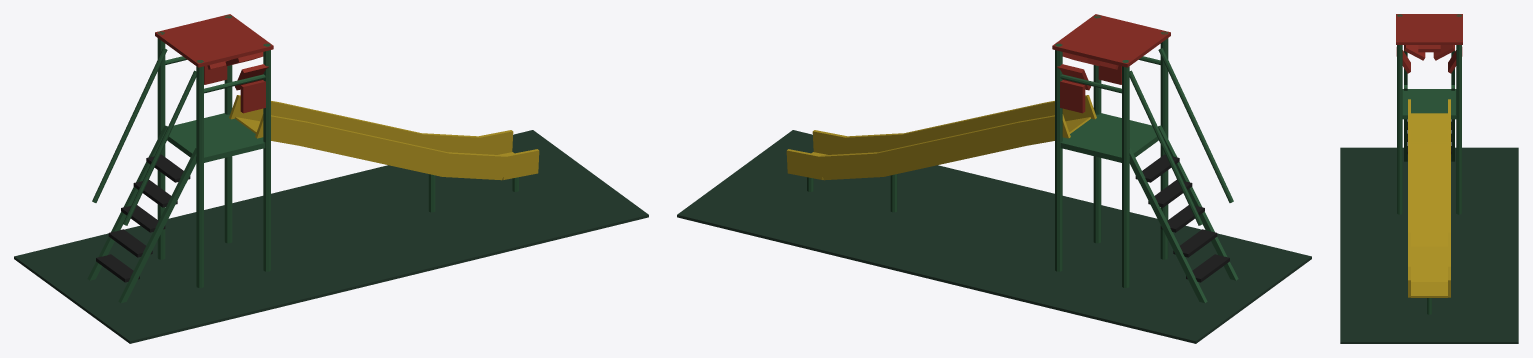
File: SM_Prop_play_slide_1.glb
3 views of the same model, side by side, from view 1: azimuth 30°, elevation 25°; view 2: azimuth 150°, elevation 25°; view 3: azimuth 270°, elevation 25° (orthographic). The views are drawn at different scales.
Visible parts, largest first — view 1: SM_Prop_play_slide_1; view 2: SM_Prop_play_slide_1; view 3: SM_Prop_play_slide_1.
Boxes of the visible parts, x1,y1,x2,y2 form: SM_Prop_play_slide_1: (14,14,648,343); SM_Prop_play_slide_1: (677,14,1311,343); SM_Prop_play_slide_1: (1340,14,1518,343).
Size of the model in its own units: 6.2 by 2.67 by 2.4.
